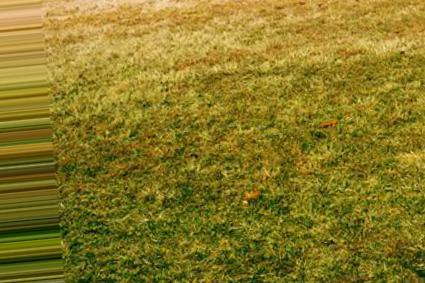patch: (67, 7, 196, 71), (235, 18, 343, 50)
